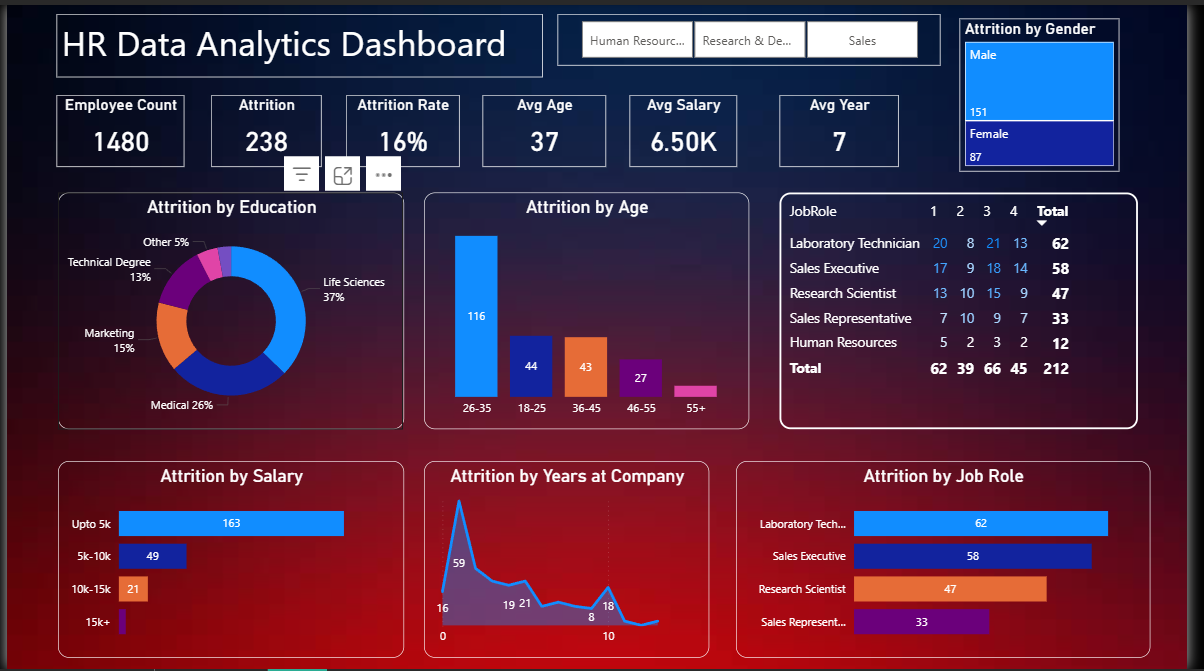

What the dashboard file says about the page in this screenshot:
{"tool":"powerbi","page":{"name":"Page 1","canvas":[1280,720],"ordinal":0},"visuals":[{"type":"card","title":"Employee Count","fields":{"Values":["CountNonNull(HR_Analytics.EmpID)"]},"box":[54.3,97.5,139,78.3],"z":0},{"type":"card","title":"Avg Age","fields":{"Values":["Avg(HR_Analytics.Age)"]},"box":[516,97.5,134.2,78.3],"z":1000},{"type":"card","title":"Attrition","fields":{"Values":["Sum(HR_Analytics.Atrrition_Count)"]},"box":[220.5,97.5,119.8,78.3],"z":2000},{"type":"card","title":"Attrition Rate","fields":{"Values":["Department.Attrition_Rate"]},"box":[367.5,97.5,123,78.3],"z":3000},{"type":"card","title":"Avg Year","fields":{"Values":["Avg(HR_Analytics.YearsAtCompany)"]},"box":[837.2,97.5,129.4,78.3],"z":4000},{"type":"card","title":"Avg Salary","fields":{"Values":["Avg(HR_Analytics.MonthlyIncome)"]},"box":[674.2,97.5,116.6,78.3],"z":5000},{"type":"textbox","box":[54.3,9.6,527.2,68.7],"z":6000},{"type":"slicer","fields":{"Values":["HR_Analytics.Department"]},"box":[597.5,9.6,415.4,55.9],"z":7000},{"type":"treemap","title":"Attrition by Gender","fields":{"Group":["HR_Analytics.Gender"],"Values":["Sum(HR_Analytics.Atrrition_Count)"]},"box":[1032.1,15.1,173.6,166],"z":8000},{"type":"donutChart","title":" Attrition by Education","fields":{"Category":["HR_Analytics.EducationField"],"Y":["Sum(HR_Analytics.Atrrition_Count)"]},"box":[54.7,203.8,375.5,256.6],"z":9000},{"type":"barChart","title":" Attrition by Salary","fields":{"Y":["Sum(HR_Analytics.Atrrition_Count)"],"Category":["HR_Analytics.SalarySlab"],"Series":["HR_Analytics.SalarySlab"]},"box":[54.7,494.3,375.5,213.2],"z":10000},{"type":"pivotTable","title":" Attrition by Education","fields":{"Values":["Sum(HR_Analytics.Atrrition_Count)"],"Rows":["HR_Analytics.JobRole"],"Columns":["HR_Analytics.JobSatisfaction"]},"box":[837.7,203.8,388.7,256.6],"z":11000},{"type":"stackedAreaChart","title":" Attrition by Years at Company","fields":{"Category":["HR_Analytics.YearsAtCompany"],"Y":["Sum(HR_Analytics.Atrrition_Count)"]},"box":[452.8,494.3,309.4,213.2],"z":12000},{"type":"columnChart","title":" Attrition by Age","fields":{"Y":["Sum(HR_Analytics.Atrrition_Count)"],"Category":["HR_Analytics.AgeGroup"],"Series":["HR_Analytics.AgeGroup"]},"box":[452.8,203.8,352.8,256.6],"z":13000},{"type":"barChart","title":" Attrition by Job Role","fields":{"Y":["Sum(HR_Analytics.Atrrition_Count)"],"Category":["HR_Analytics.JobRole"],"Series":["HR_Analytics.JobRole"]},"box":[790.6,494.3,449.1,213.2],"z":14000}]}

Visuals, with their boxes in screenshot pixels (x1, y1, x2, y2), scaled from the page's 1280x720 canvas onto the 1204x671 screenshot:
"Employee Count" card: region(51, 91, 182, 164)
"Avg Age" card: region(485, 91, 612, 164)
"Attrition" card: region(207, 91, 320, 164)
"Attrition Rate" card: region(346, 91, 461, 164)
"Avg Year" card: region(787, 91, 909, 164)
"Avg Salary" card: region(634, 91, 744, 164)
textbox: region(51, 9, 547, 73)
slicer - HR_Analytics.Department: region(562, 9, 953, 61)
"Attrition by Gender" treemap: region(971, 14, 1134, 169)
" Attrition by Education" donutChart: region(51, 190, 405, 429)
" Attrition by Salary" barChart: region(51, 461, 405, 659)
" Attrition by Education" pivotTable: region(788, 190, 1154, 429)
" Attrition by Years at Company" stackedAreaChart: region(426, 461, 717, 659)
" Attrition by Age" columnChart: region(426, 190, 758, 429)
" Attrition by Job Role" barChart: region(744, 461, 1166, 659)
